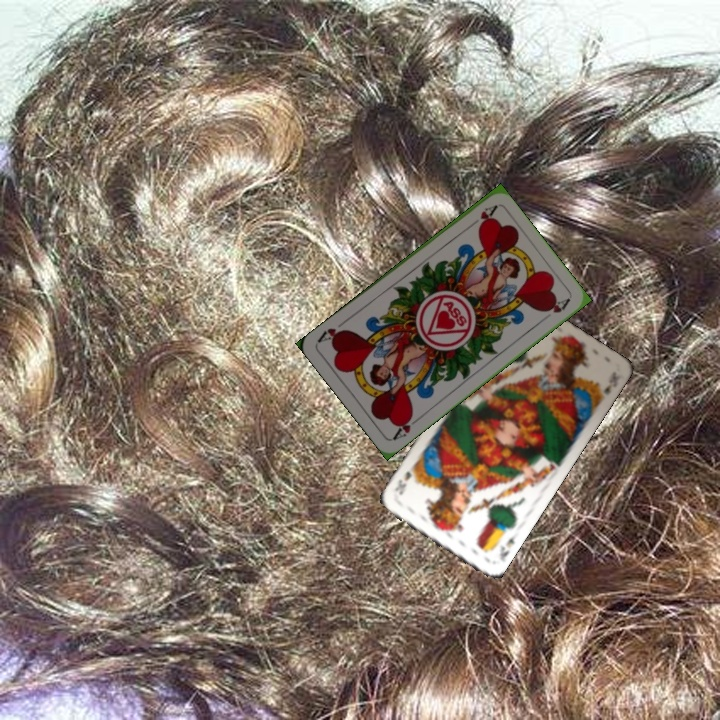EK: (495, 529, 519, 562)
HA: (389, 410, 423, 443), (464, 201, 499, 231)
